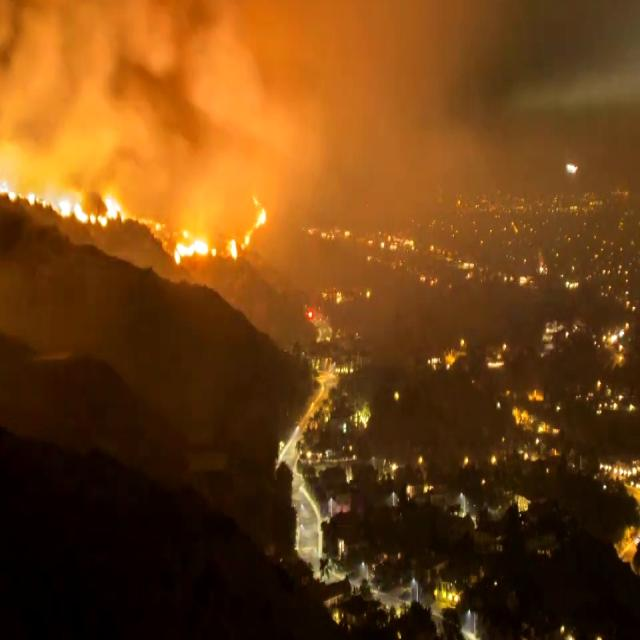fire: (0, 19, 115, 251), (156, 184, 284, 294)
smoke: (100, 33, 389, 183)
